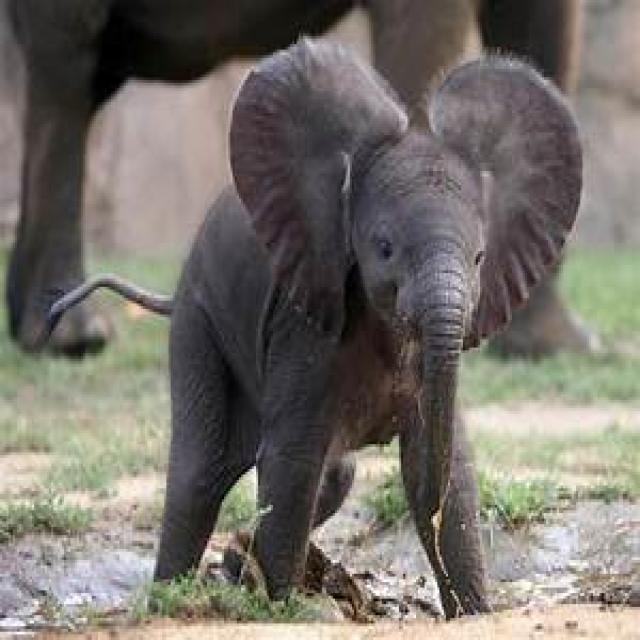elephant: (107, 36, 585, 623), (6, 0, 367, 359)
